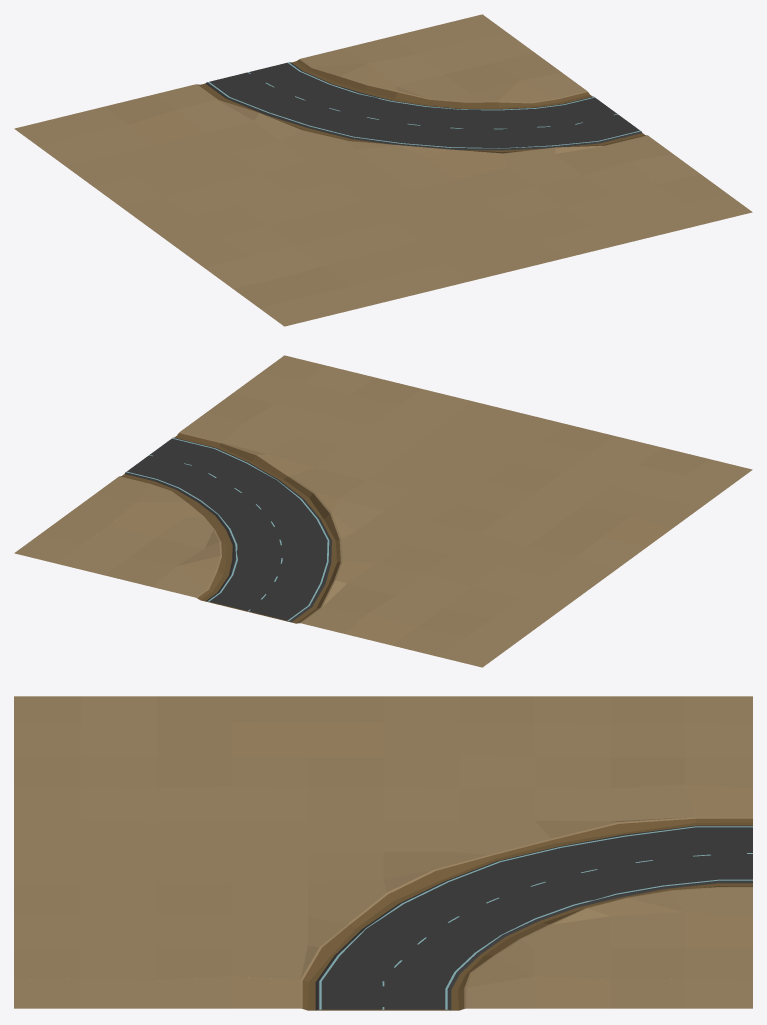
Rendered from model_road_dirt_cornor_1.fbx.
The picture shows the model from 3 angles, top to bottom: view 1: azimuth 30°, elevation 25°; view 2: azimuth 150°, elevation 25°; view 3: azimuth 270°, elevation 25°; orthographic projection. The views are drawn at different scales.
Parts seen in each view (by area): view 1: model_road_dirt_cornor_1; view 2: model_road_dirt_cornor_1; view 3: model_road_dirt_cornor_1.
Part boxes in pixels (bbox=[...]): model_road_dirt_cornor_1: bbox=[14, 14, 752, 326]; model_road_dirt_cornor_1: bbox=[14, 355, 752, 667]; model_road_dirt_cornor_1: bbox=[14, 696, 752, 1010].
Size of the model in its own units: 6000 by 62.78 by 6000.
1 material, 1 textured.
